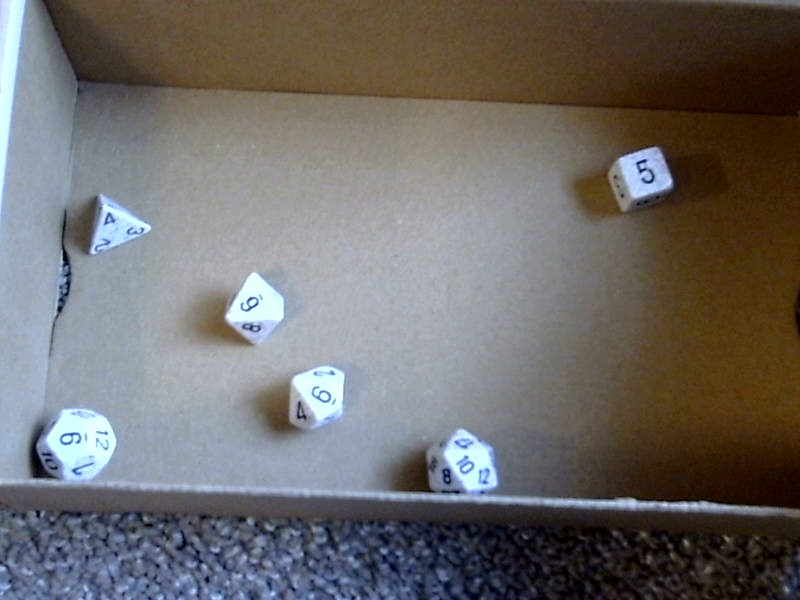d10 6: (280, 362, 351, 439)
d12 9: (31, 404, 125, 487)
d20 10: (418, 417, 508, 509)
d4 4: (74, 181, 157, 271)
d6 5: (600, 134, 683, 224)
d8 6: (219, 267, 287, 350)
